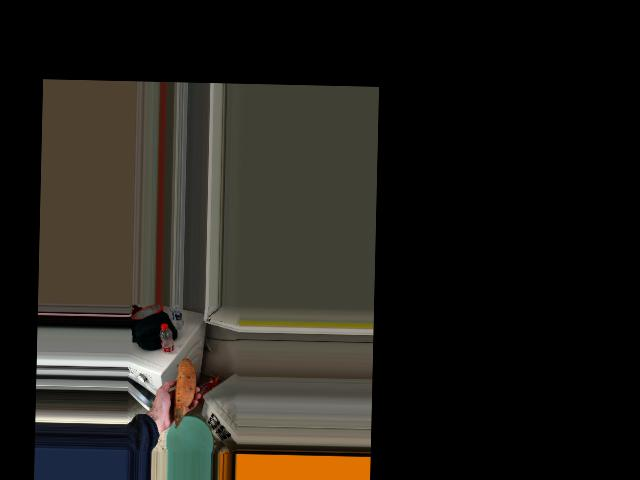sweet_potato: (173, 359, 198, 418)
